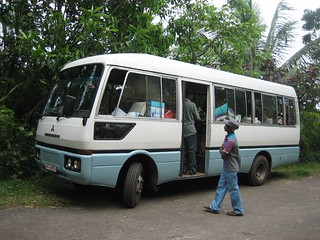bus: (34, 53, 300, 209)
